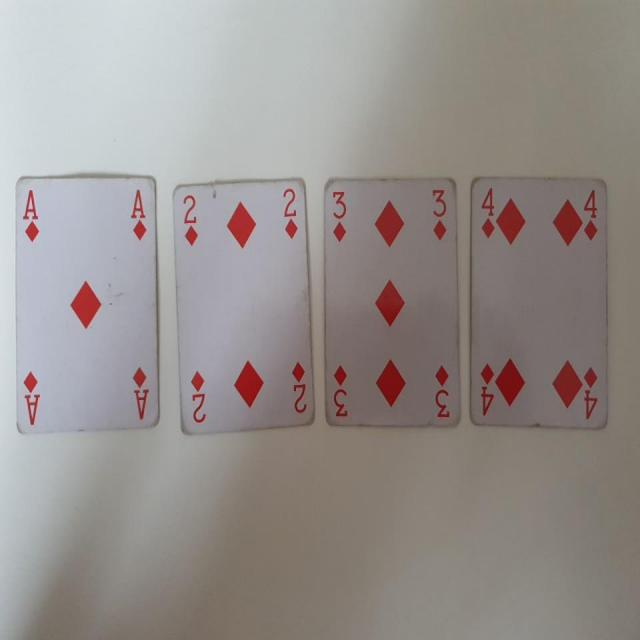2 Diamonds: (170, 174, 314, 436)
3 Diamonds: (322, 174, 462, 430)
4 Diamonds: (469, 169, 611, 435)
A Diamonds: (9, 170, 162, 434)
